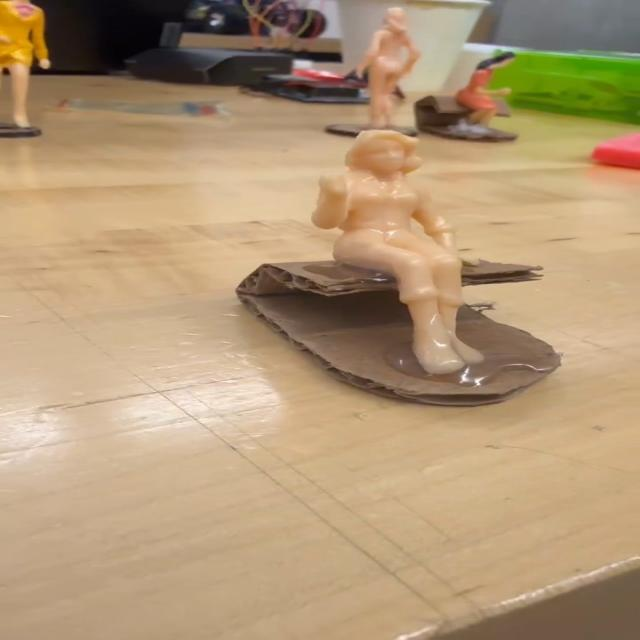Unauthorized: (298, 124, 515, 404)
